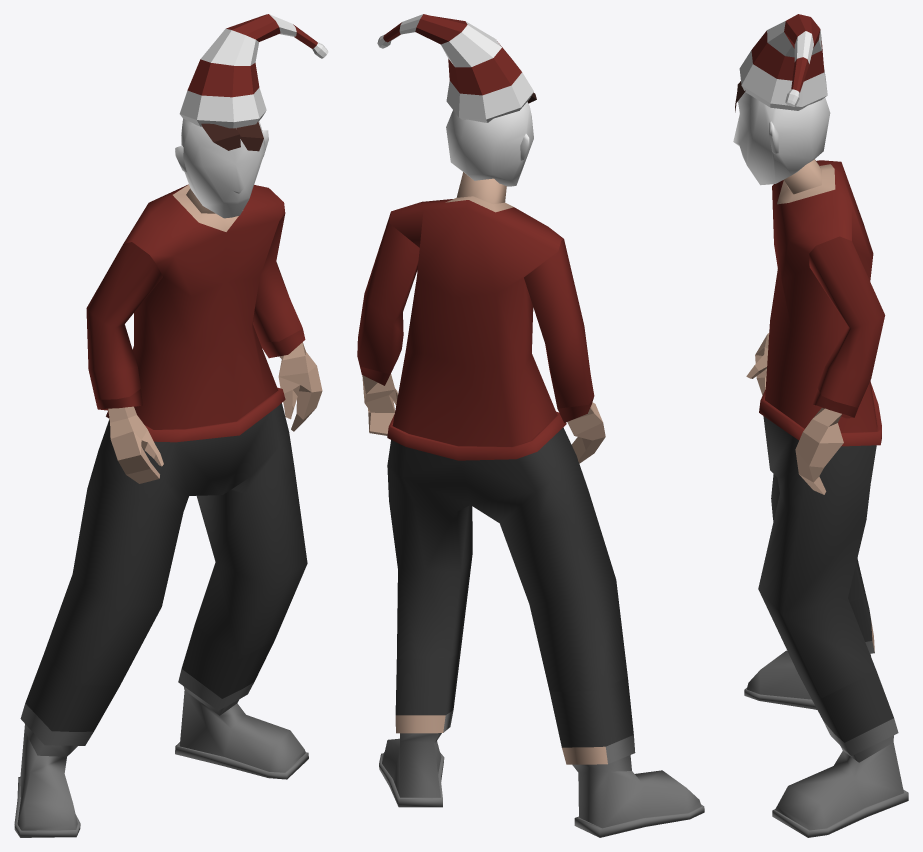
The model's file is NPC2_pose.fbx.
The picture shows the model from 3 angles, left to right: view 1: azimuth 30°, elevation 25°; view 2: azimuth 150°, elevation 25°; view 3: azimuth 270°, elevation 25°; orthographic projection. The views are drawn at different scales.
Visible parts, largest first — view 1: Telo.006; view 2: Telo.006; view 3: Telo.006.
Part boxes in pixels (x1,y1,x2,y2): Telo.006: [14, 14, 328, 837]; Telo.006: [357, 14, 704, 837]; Telo.006: [733, 14, 908, 837].
Size of the model in its own units: 63.86 by 144 by 29.12.
